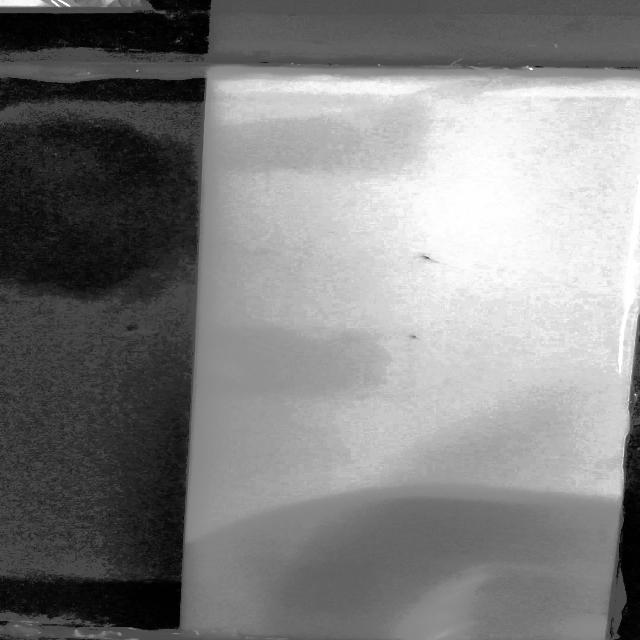shrimp: (414, 250, 464, 275), (400, 331, 428, 344)
